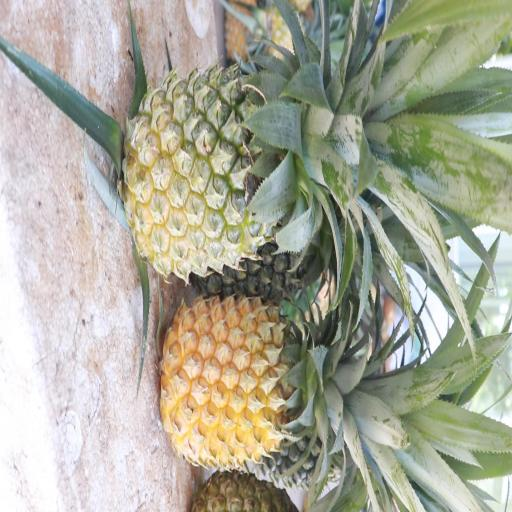------------------------------: (130, 77, 335, 274)
Pineapple - v8 v1: (160, 299, 338, 477)
